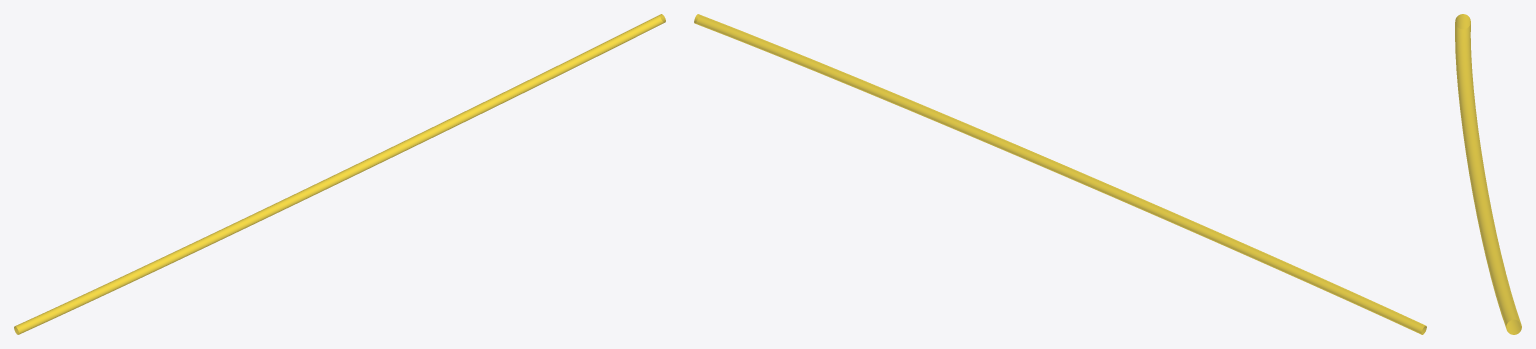
Rendered from Event_40932208_track_19.fbx.
3 views of the same model, side by side, from view 1: azimuth 30°, elevation 25°; view 2: azimuth 150°, elevation 25°; view 3: azimuth 270°, elevation 25° (orthographic). The views are drawn at different scales.
Parts seen in each view (by area): view 1: Model; view 2: Model; view 3: Model.
Boxes of the visible parts, x1,y1,x2,y2 form: Model: [14, 14, 665, 334]; Model: [694, 14, 1426, 334]; Model: [1455, 14, 1521, 334].
Size of the model in its own units: 3.24 by 0.6909 by 0.1699.
